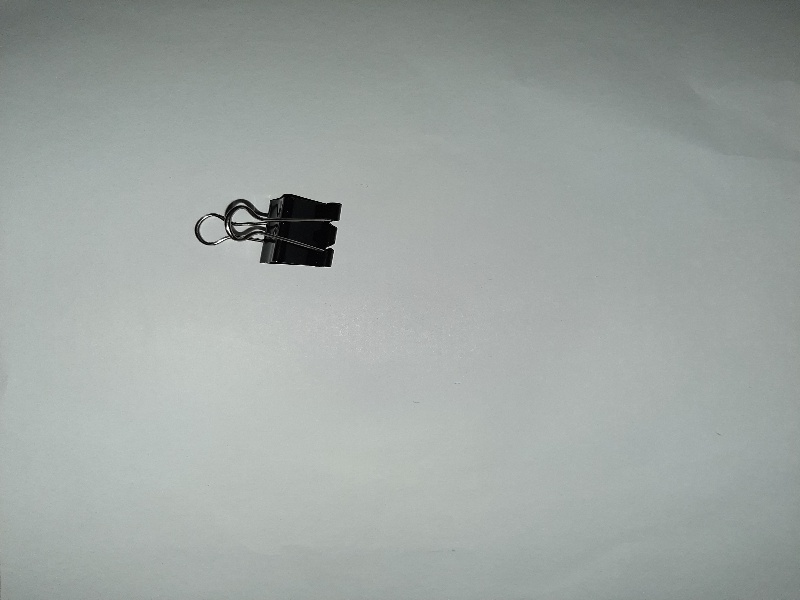Big Paperclip: (193, 181, 362, 284)
